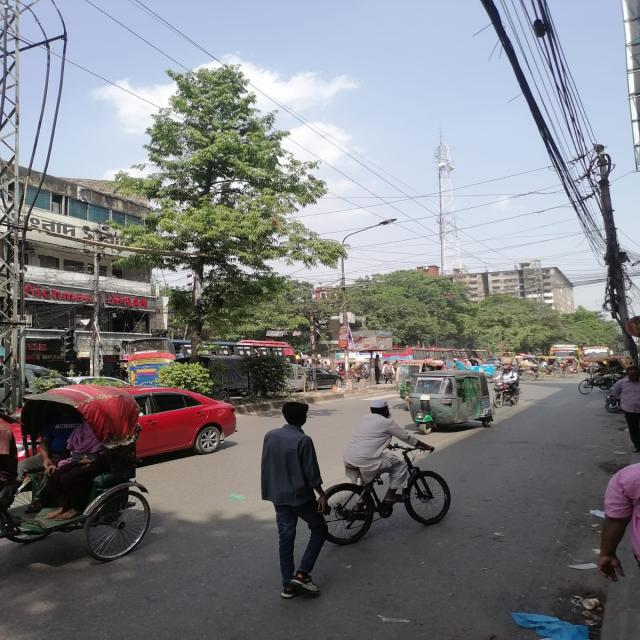person: (261, 402, 328, 599)
